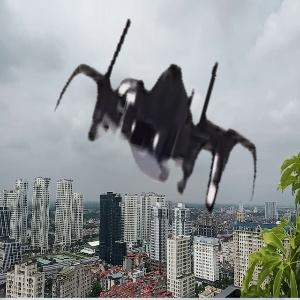drone: (47, 13, 277, 243)
